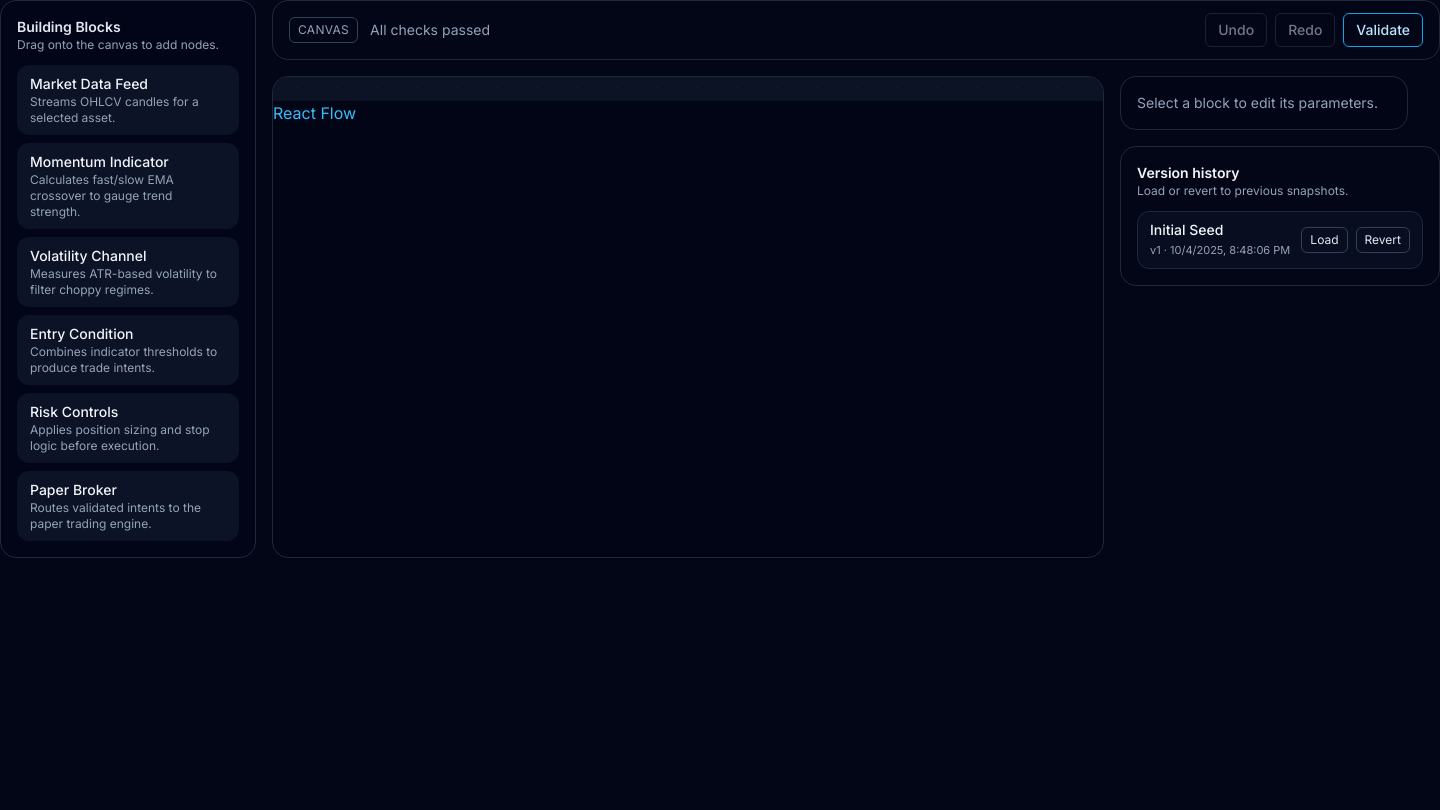
Test: StrategyCanvas integration › runs validation and surfaces result summary
The width and height of the screenshot is (1440, 810).
Click the button "Validate". click: (1383, 30)
box: [1343,13,1423,47]
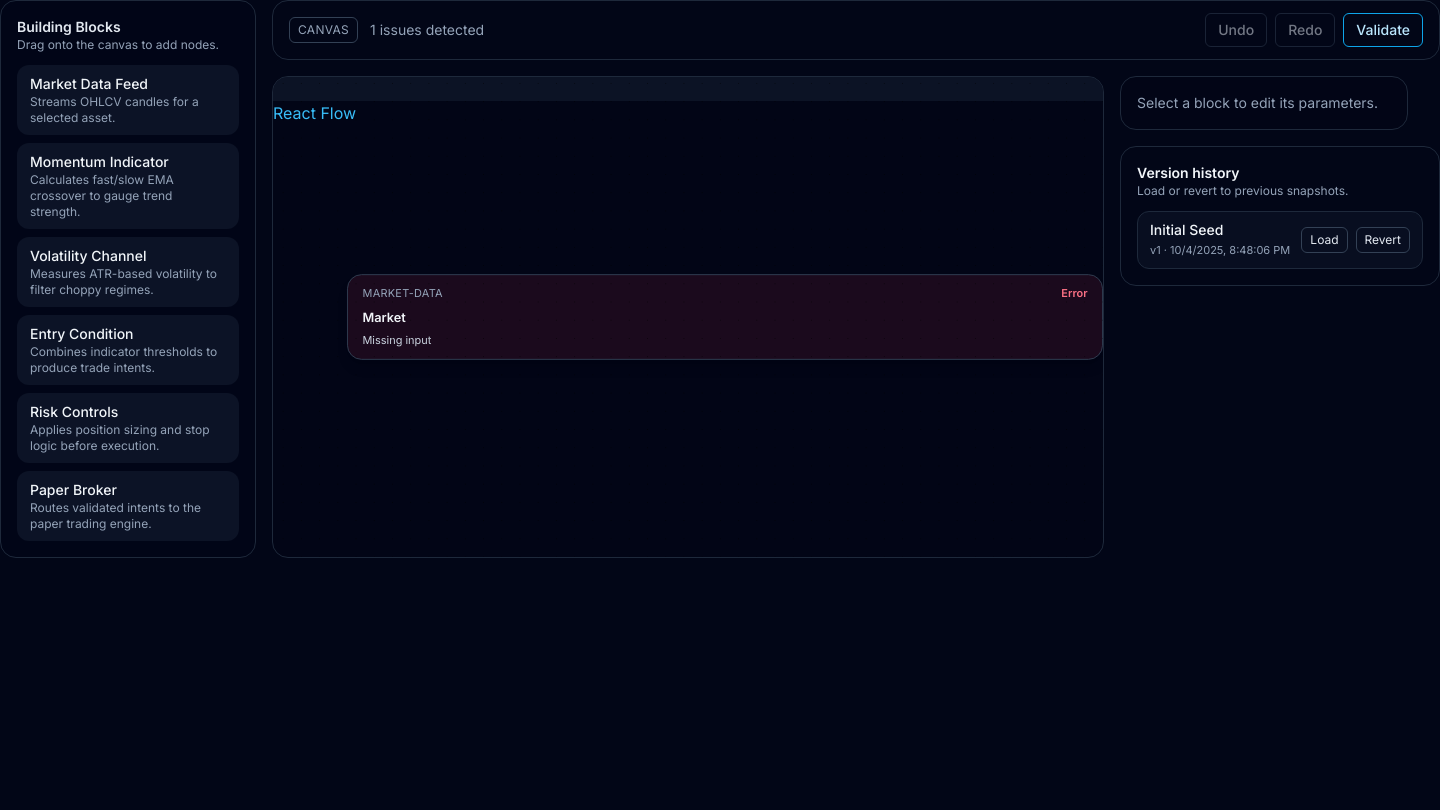
Expected: the text "1 issues detected" is shown, [370,20,484,40]
